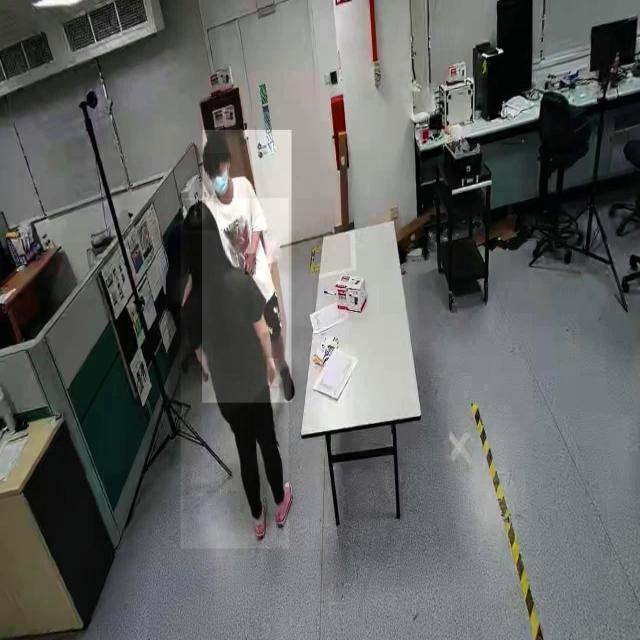face_mask: (209, 170, 229, 203)
hand_noglove: (266, 358, 278, 387), (244, 253, 256, 276)
head_nohelmet: (183, 200, 217, 231), (202, 129, 232, 154)
person: (180, 198, 288, 550), (202, 130, 292, 402)
shoes: (248, 492, 272, 545), (272, 478, 293, 532), (280, 359, 296, 402)
